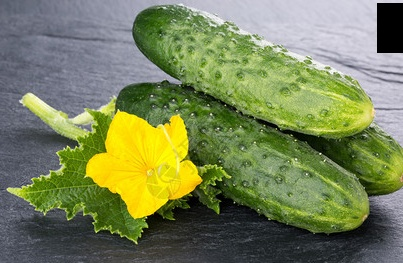cucumber: (133, 2, 374, 121)
cucumber_plant: (9, 97, 201, 237)
